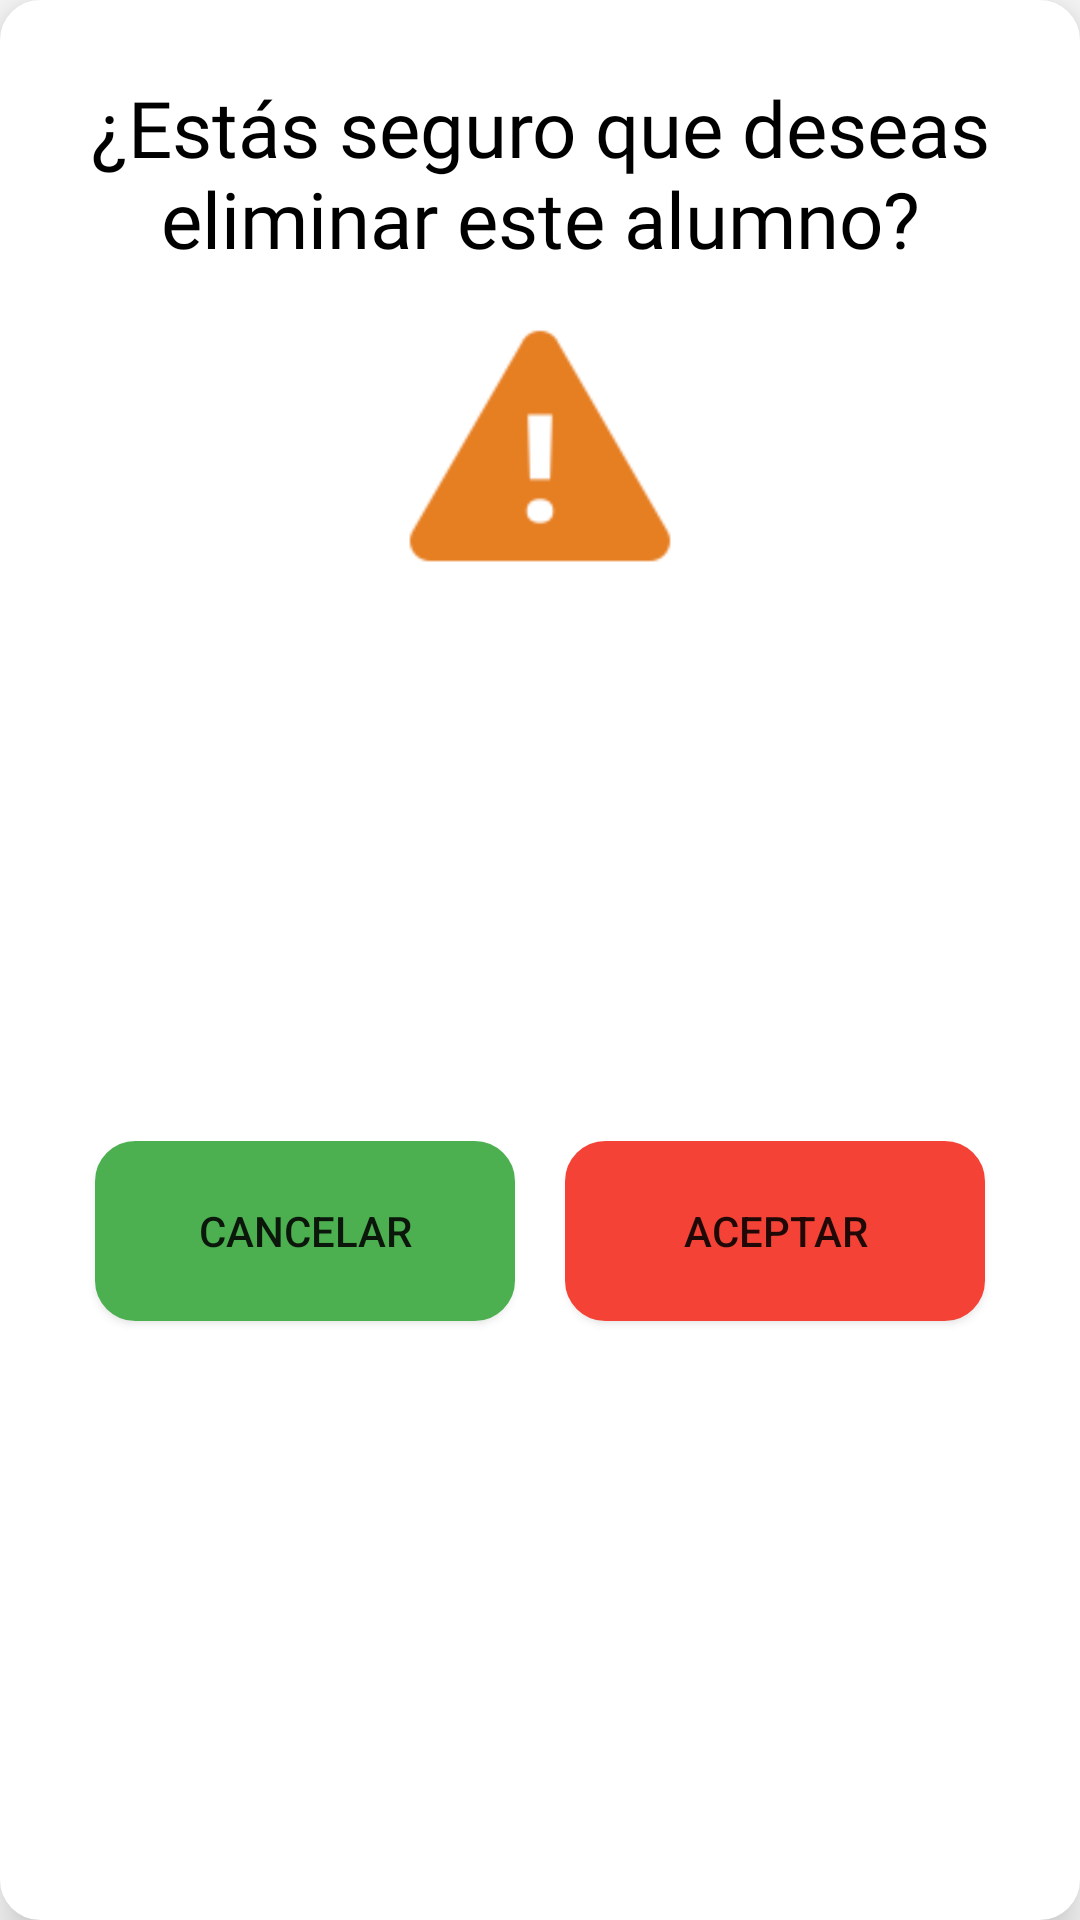

Screen size 1080px x 1920px. Icon name, then its box in pixels as (x1, y1, x2, y2):
error: (409, 330, 671, 562)
